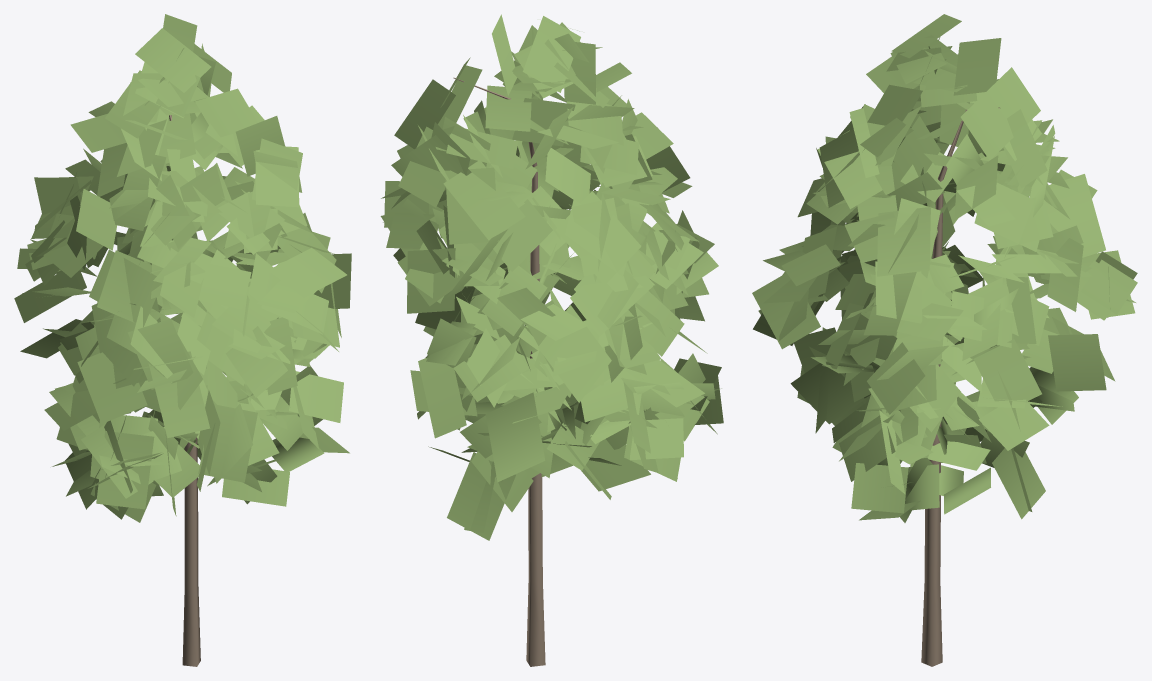
File: Birch_1_lod2.glb
The picture shows the model from 3 angles, left to right: view 1: azimuth 30°, elevation 25°; view 2: azimuth 150°, elevation 25°; view 3: azimuth 270°, elevation 25°; orthographic projection. The views are drawn at different scales.
Parts seen in each view (by area): view 1: Birch_1_lod2; view 2: Birch_1_lod2; view 3: Birch_1_lod2.
Boxes of the visible parts, left/top/right/bottom form: Birch_1_lod2: left=14, top=14, right=351, bottom=666; Birch_1_lod2: left=380, top=14, right=723, bottom=666; Birch_1_lod2: left=752, top=14, right=1137, bottom=666.
Size of the model in its own units: 8.65 by 17.69 by 9.76.
